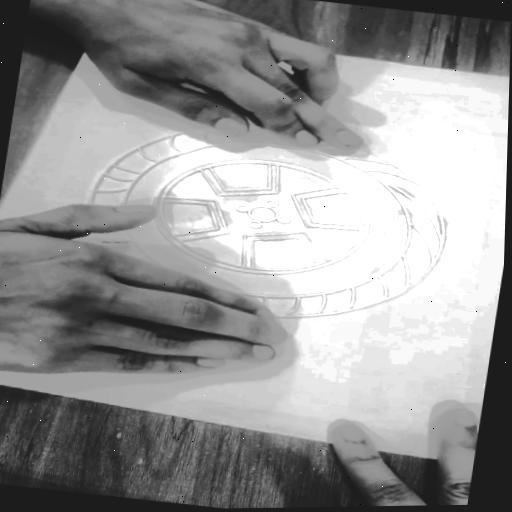bottom_right: (97, 15, 108, 25)
tire: (32, 78, 480, 355)
